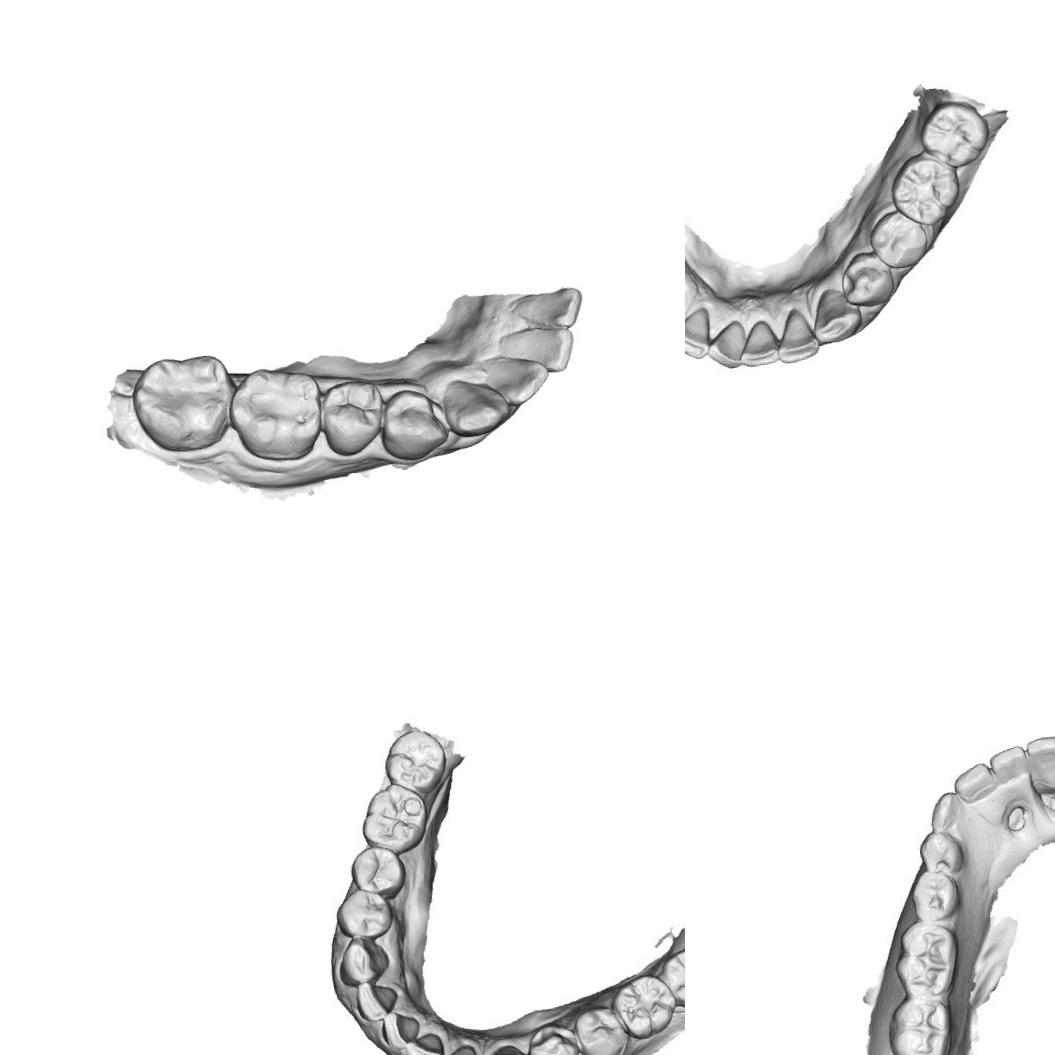canine: (438, 371, 514, 441), (929, 791, 984, 846), (336, 931, 391, 983), (811, 288, 861, 342), (477, 1042, 534, 1055)
incisor: (507, 282, 586, 336), (486, 350, 554, 410), (511, 321, 579, 380), (987, 744, 1039, 816), (952, 758, 1008, 822), (1022, 730, 1055, 811), (741, 318, 783, 368), (779, 306, 815, 364), (711, 320, 755, 366), (356, 981, 395, 1022), (380, 1009, 421, 1047), (685, 308, 716, 355), (407, 1030, 446, 1055), (434, 1037, 479, 1055)
molar: (126, 350, 238, 458), (224, 361, 328, 465), (888, 916, 962, 1002), (356, 780, 426, 858), (885, 991, 962, 1055), (378, 727, 448, 796), (922, 100, 986, 164), (895, 158, 958, 220), (618, 974, 677, 1038), (662, 949, 685, 1007)
premolar: (312, 374, 389, 459), (376, 384, 454, 462), (837, 250, 898, 316), (867, 206, 927, 270), (904, 866, 964, 926), (911, 825, 963, 880), (339, 892, 390, 938), (352, 848, 402, 894), (578, 1009, 625, 1055), (527, 1022, 580, 1055)
